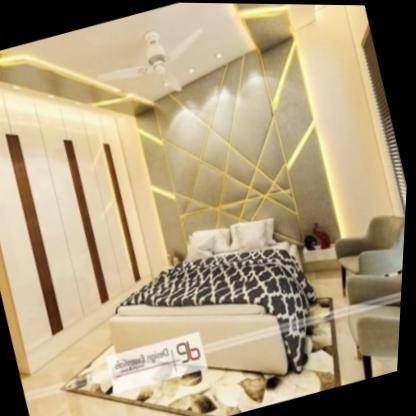Bed: (83, 188, 341, 416)
Closet: (0, 48, 150, 362)
Gypsum Board: (0, 2, 334, 119)
Wall Panel: (132, 31, 344, 269)
